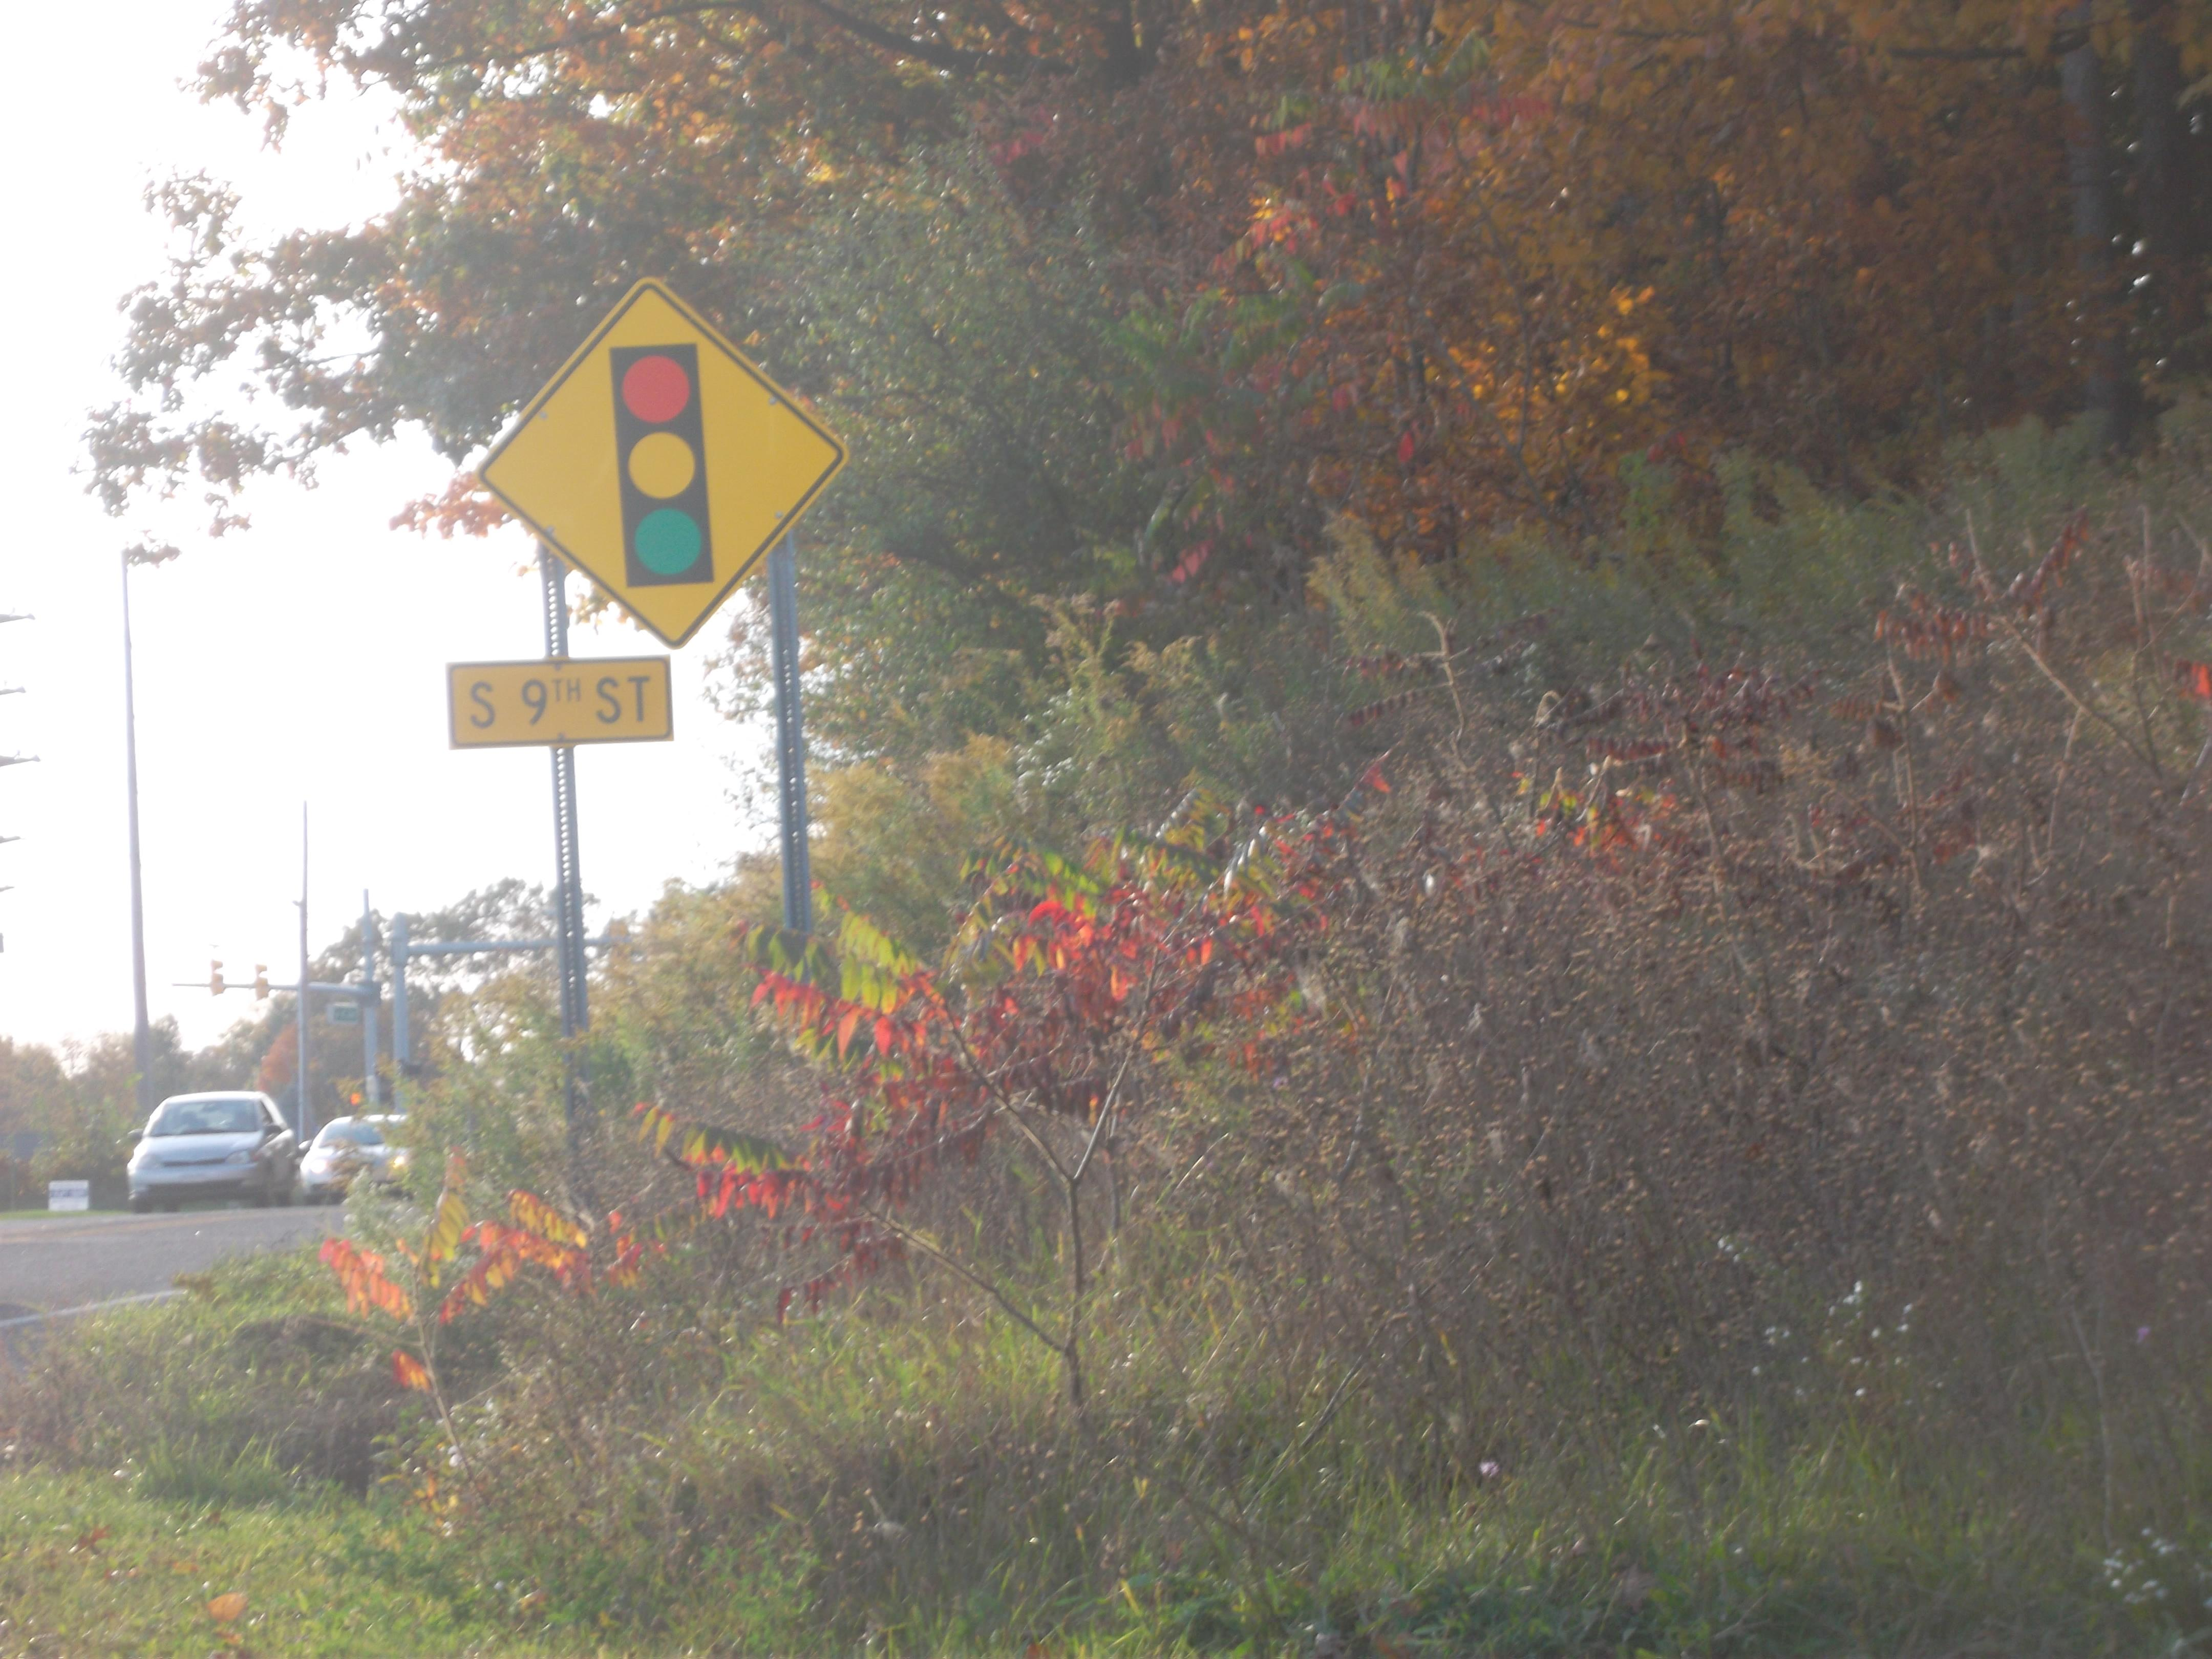warning: (470, 268, 867, 655), (432, 650, 693, 755)
